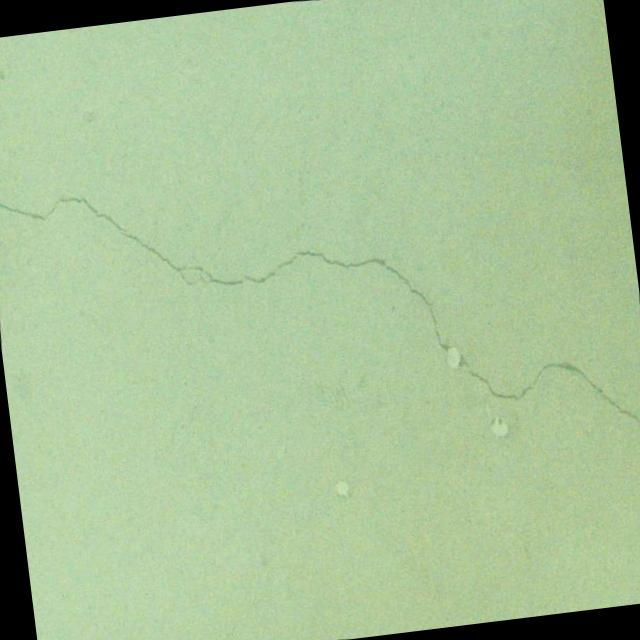crack: (0, 123, 640, 522), (0, 228, 47, 277)
